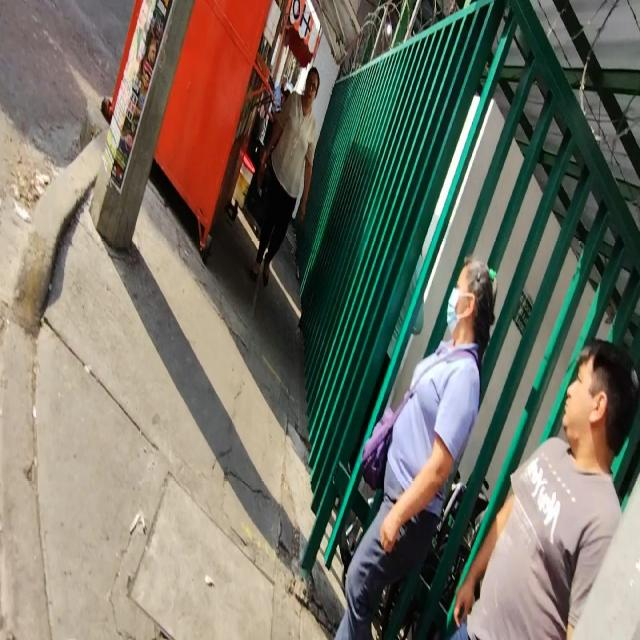adult: (335, 255, 493, 640), (454, 337, 638, 640), (253, 63, 319, 288)
